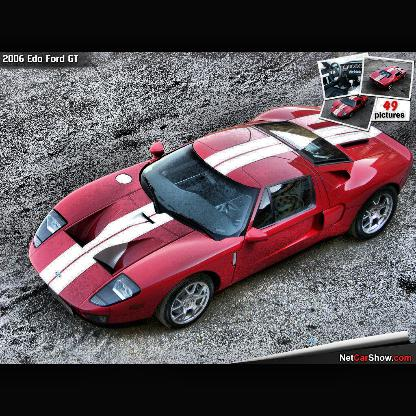Ford GT Coupe 2006: (30, 99, 414, 333)
